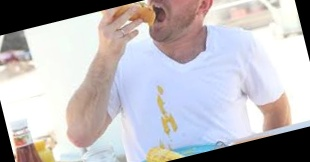mustard: (149, 85, 174, 138), (158, 108, 180, 135)
